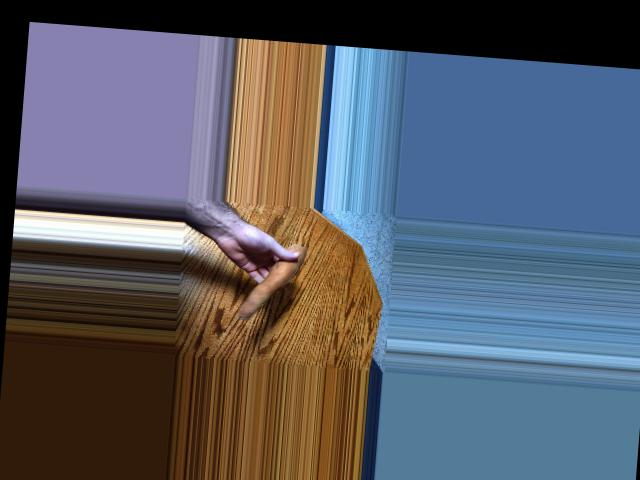sweet_potato: (235, 240, 302, 323)
